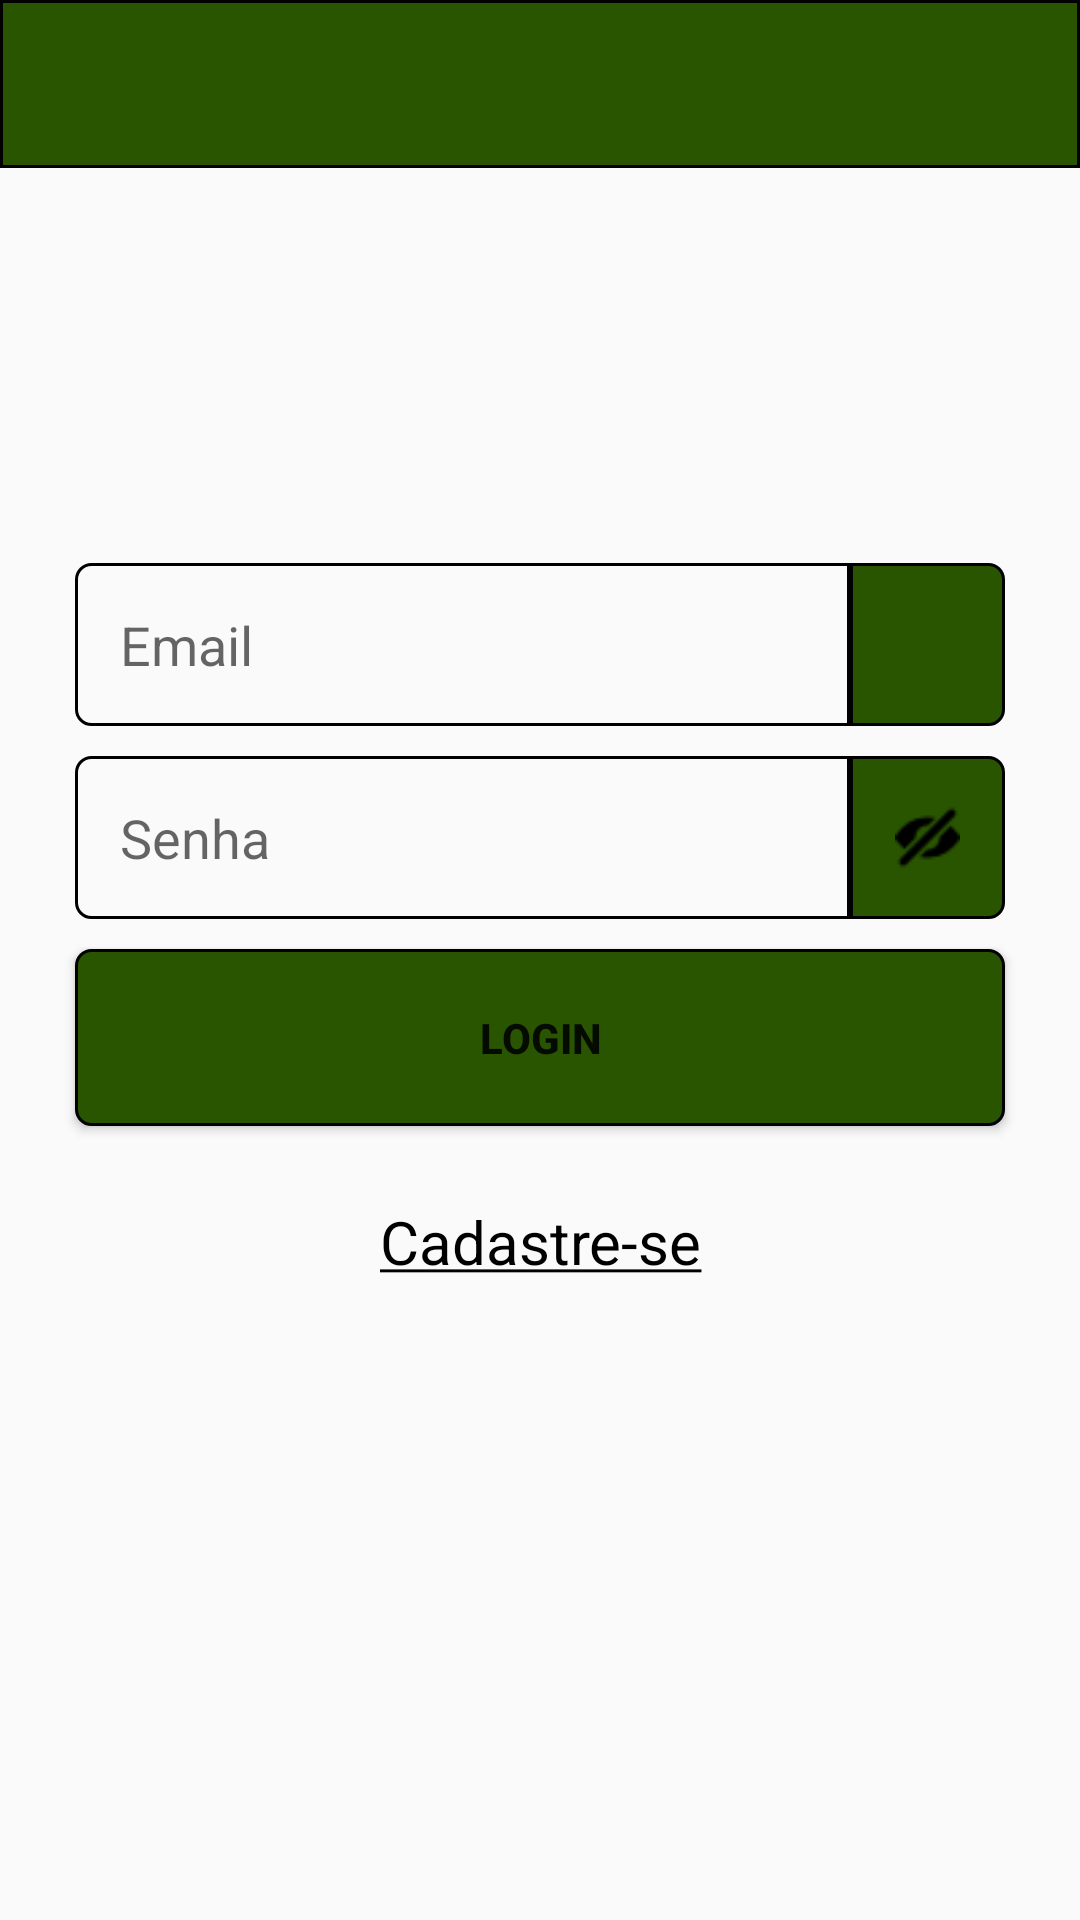

Icon click points for this 1080×1920 phone screenshot, format (x,y):
olho fechado: (927,837)
